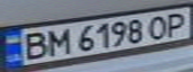1: (93, 20, 115, 48)
6: (75, 22, 96, 52)
8: (124, 16, 148, 44)
9: (109, 19, 130, 47)
B: (15, 29, 51, 61)
M: (42, 26, 72, 56)
O: (145, 12, 175, 39)
P: (160, 10, 190, 37)
